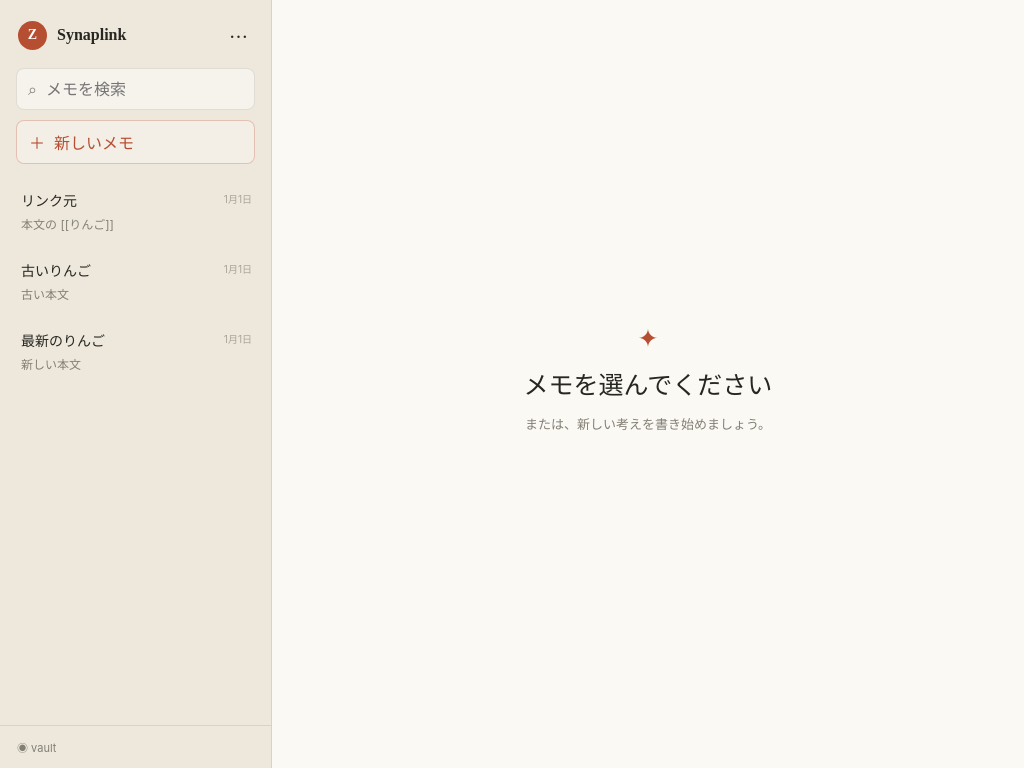
App › wikiリンク検索と同じ候補から更新日時が最も新しいメモを開く
Click the button "リンク元". click: click(136, 211)
box: [9,176,262,246]
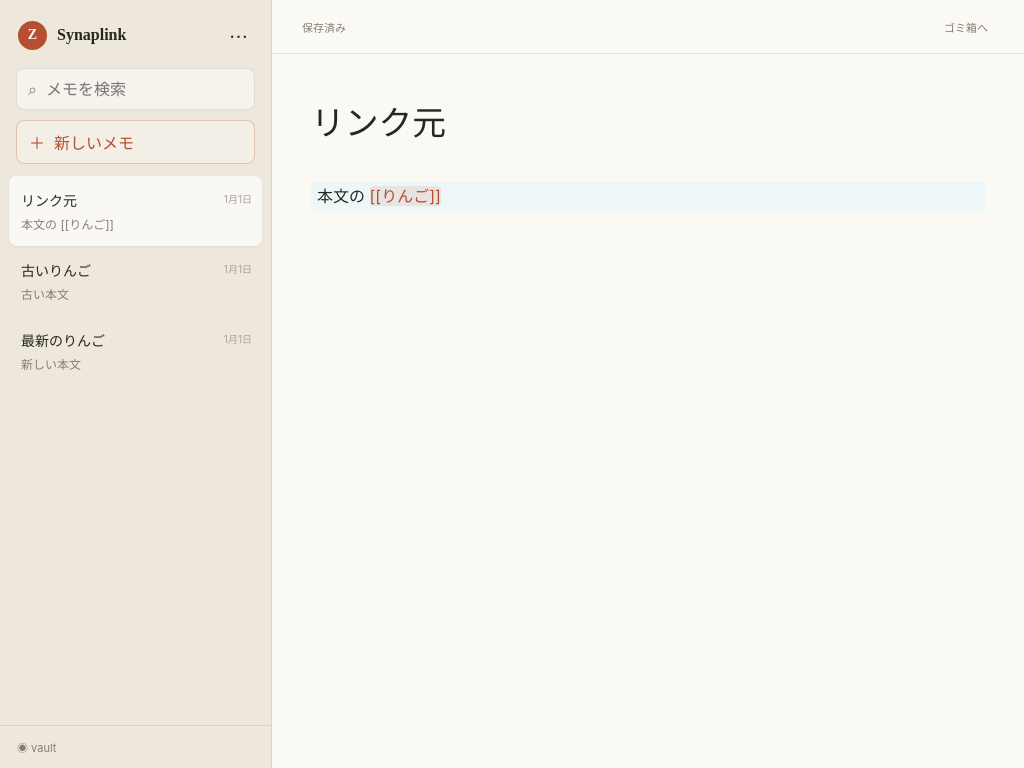
Expected: the field showing "リンク元" is shown, [307,102,989,162]
Click the text box with class "cm-wikilink". click: click(405, 196)
box: [370,186,441,206]
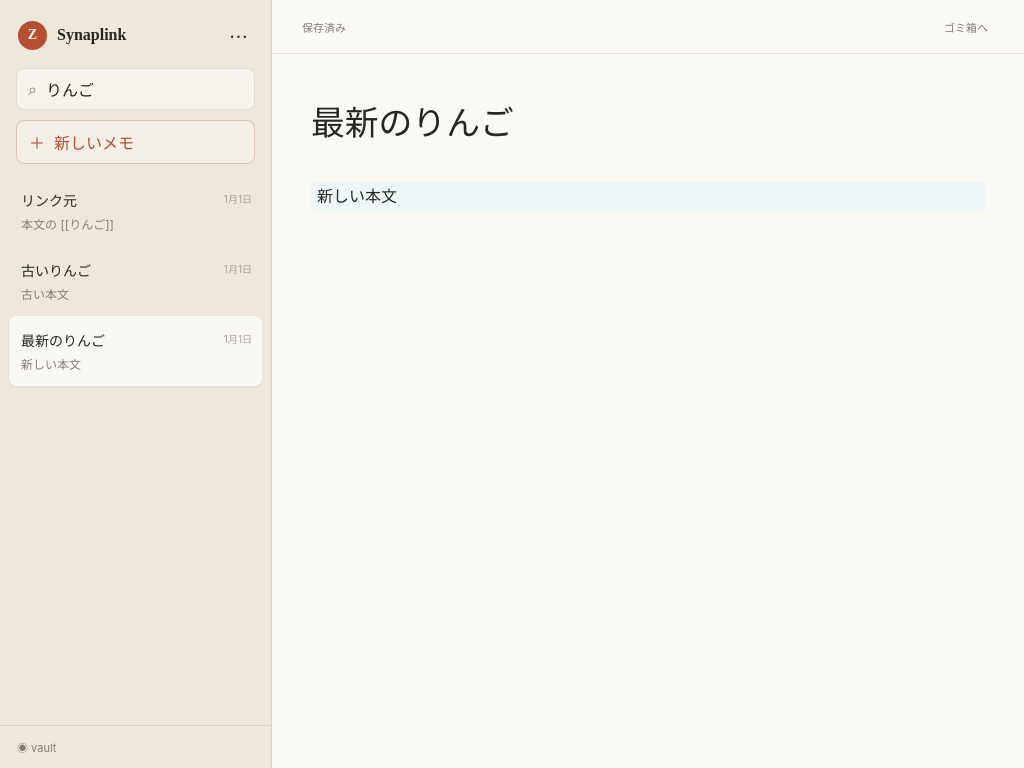
Expected: the button "古いりんご" is shown, [9,246,262,316]
Expected: the field with placeholder "メモを検索" holds "りんご", [44,78,243,100]
Expected: the field showing "最新のりんご" is shown, [307,102,989,162]
